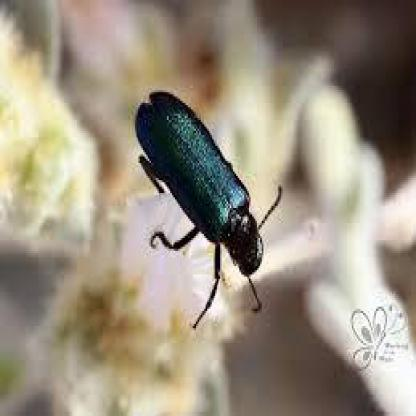blister beetle: (136, 91, 266, 324)
